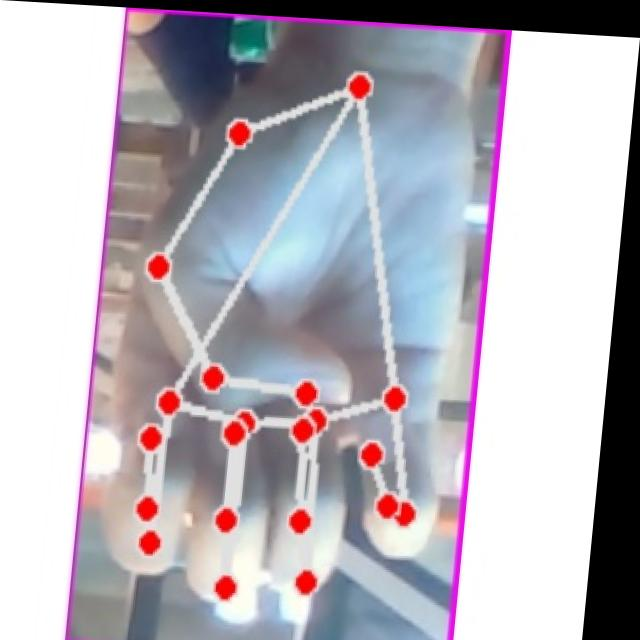E: (91, 52, 497, 623)
